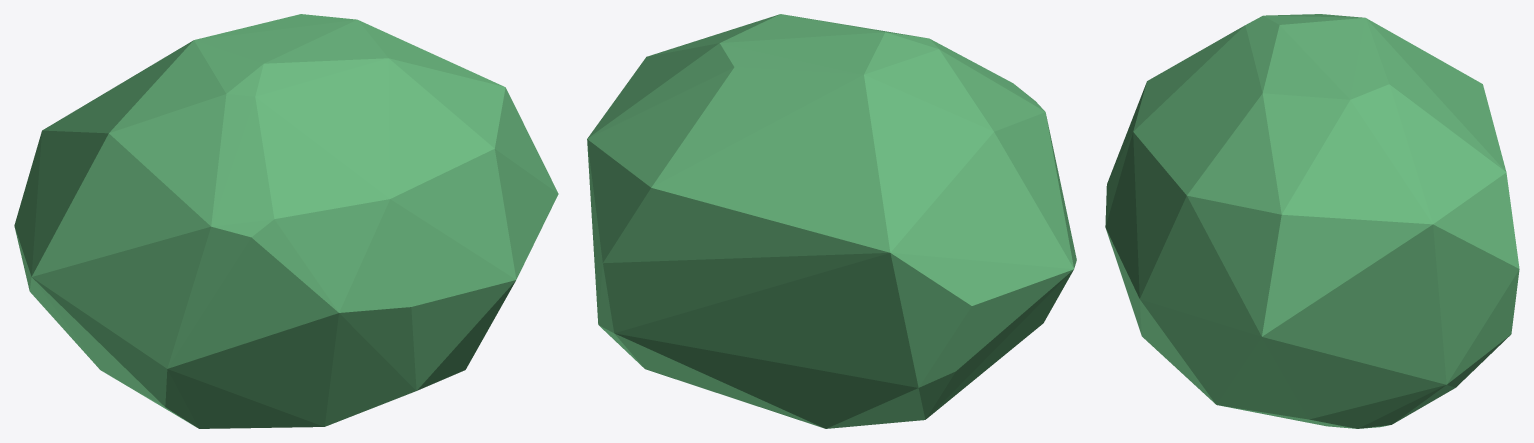
Rendered from food_produce_kiwi_a00.glb.
The picture shows the model from 3 angles, left to right: view 1: azimuth 30°, elevation 25°; view 2: azimuth 150°, elevation 25°; view 3: azimuth 270°, elevation 25°; orthographic projection. The views are drawn at different scales.
Visible parts, largest first — view 1: geometry_0; view 2: geometry_0; view 3: geometry_0.
Part boxes in pixels (x1,y1,x2,y2): geometry_0: (14, 14, 558, 428); geometry_0: (587, 14, 1076, 428); geometry_0: (1105, 14, 1519, 428).
Size of the model in its own units: 0.4702 by 0.3219 by 0.3607.
